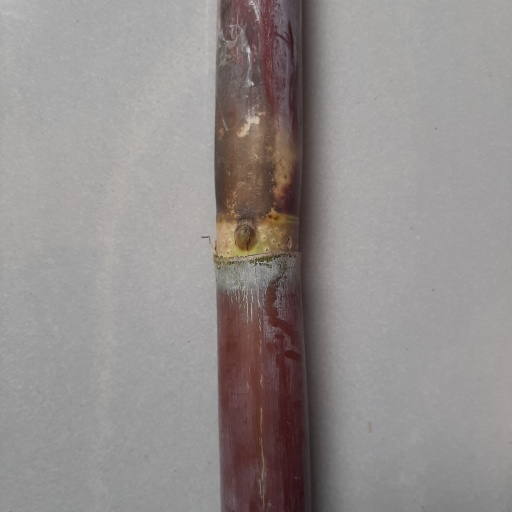Bud: (232, 224, 258, 253)
